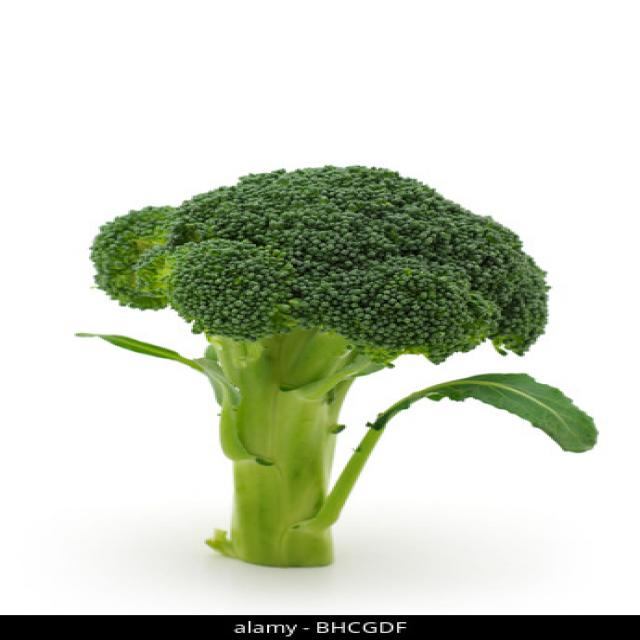broccoli: (86, 154, 555, 568)
